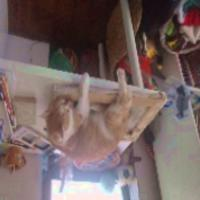asleep: (38, 67, 132, 163)
